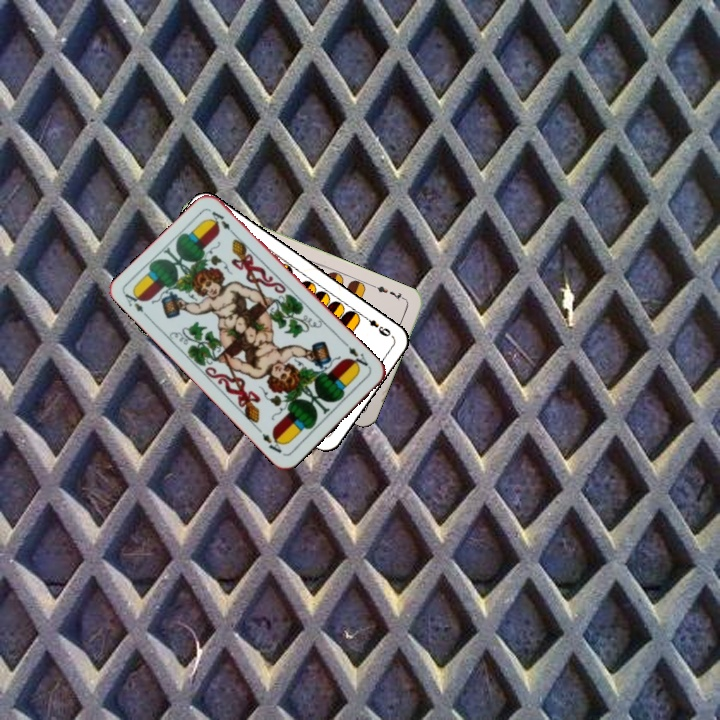E7: (370, 281, 409, 303)
E9: (359, 311, 395, 339)
EA: (121, 286, 153, 322), (341, 338, 373, 372)
